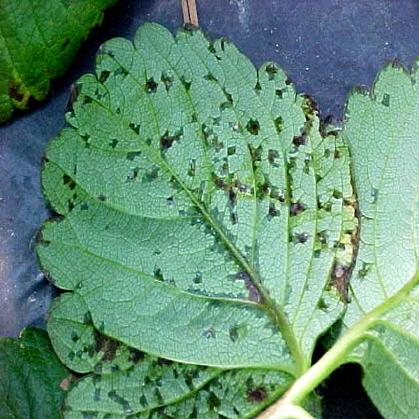Angular Leafspot: (28, 21, 362, 418), (319, 53, 418, 418)
